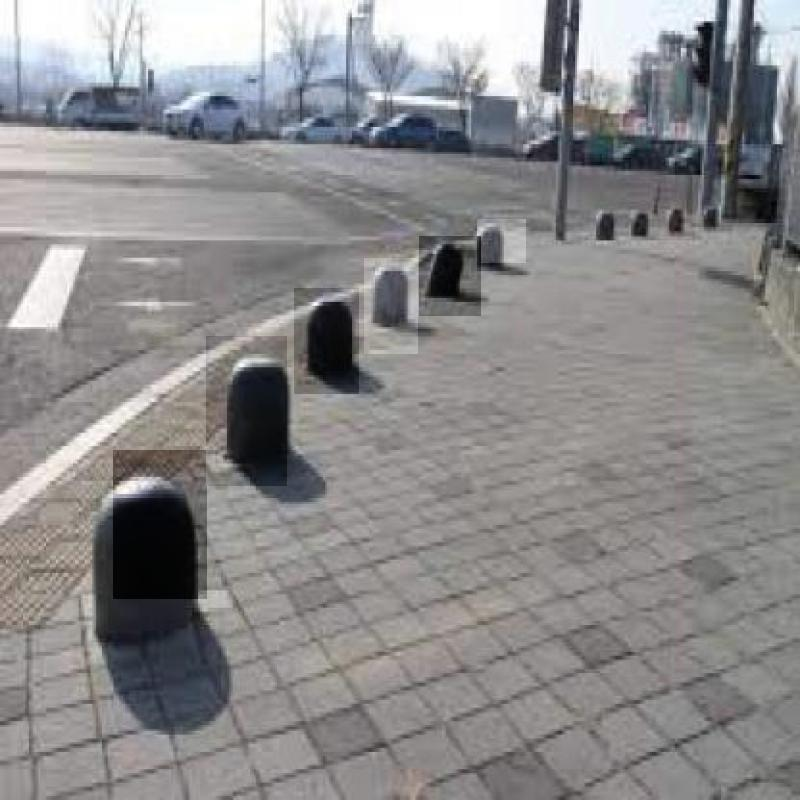bolard: (113, 450, 207, 599), (206, 336, 287, 486), (294, 288, 359, 394), (364, 258, 418, 354), (419, 236, 481, 316), (477, 219, 526, 263)
